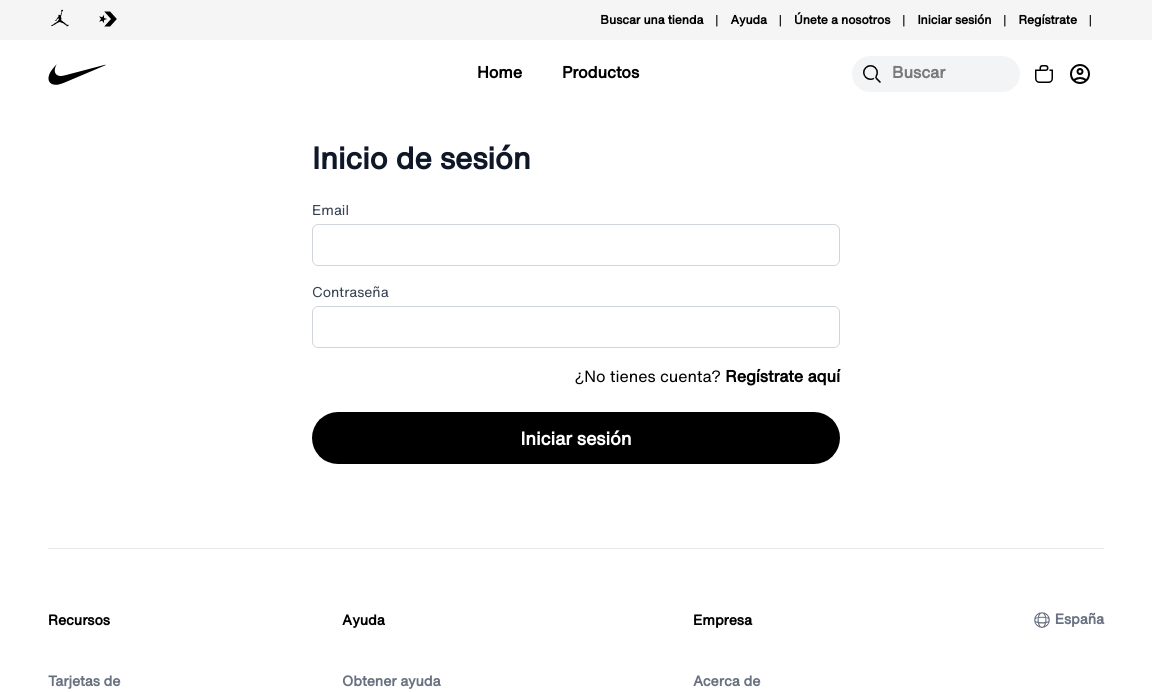
Test: Login de usuario › Muestra error si las credenciales son incorrectas
Type "incorrecto@ejemplo.com" into the field named "email" at (576, 245), box [312,224,840,266]
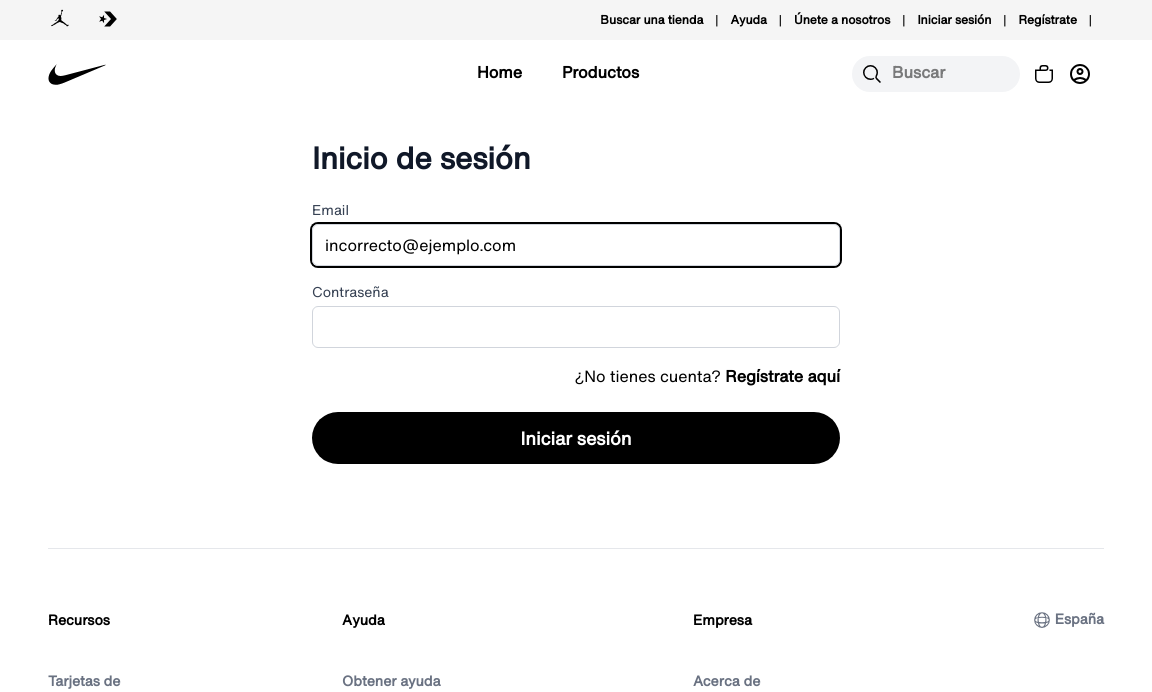
Type "contrasenaIncorrecta" into the password field named "password" at (576, 327), box [312,306,840,348]
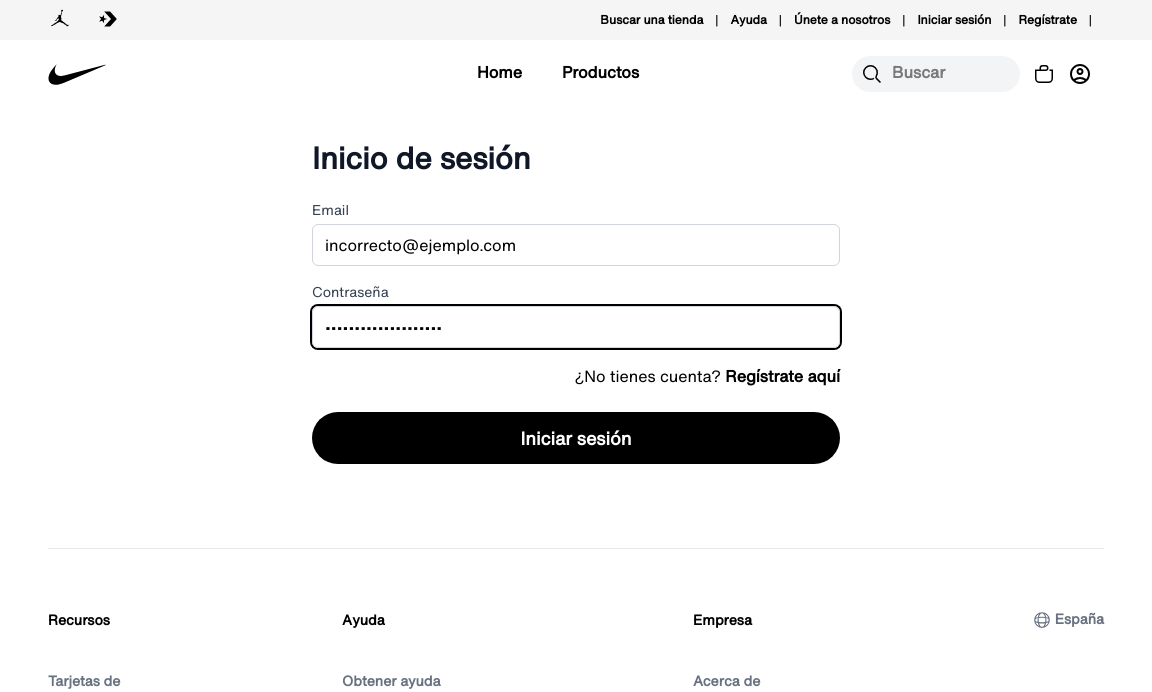
Click the submit button at (576, 438), box [312,412,840,464]
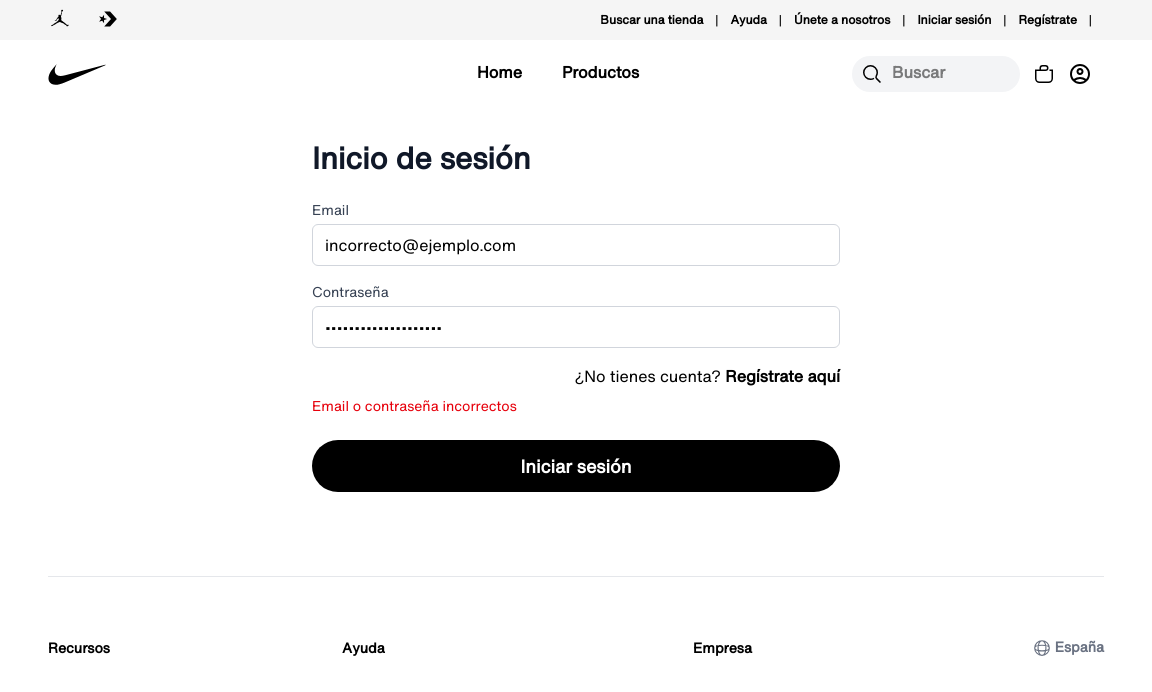
Expected: the text "Email o contraseña incorrectos" is shown, [312,395,517,416]
